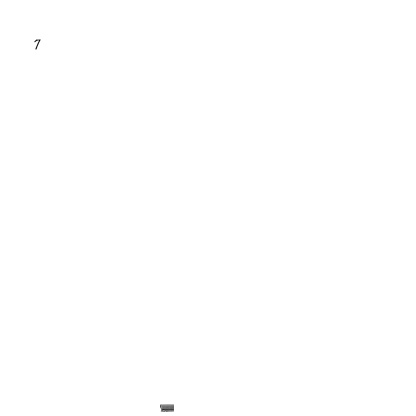7: (30, 36, 44, 50)
Bag: (160, 401, 174, 415)
